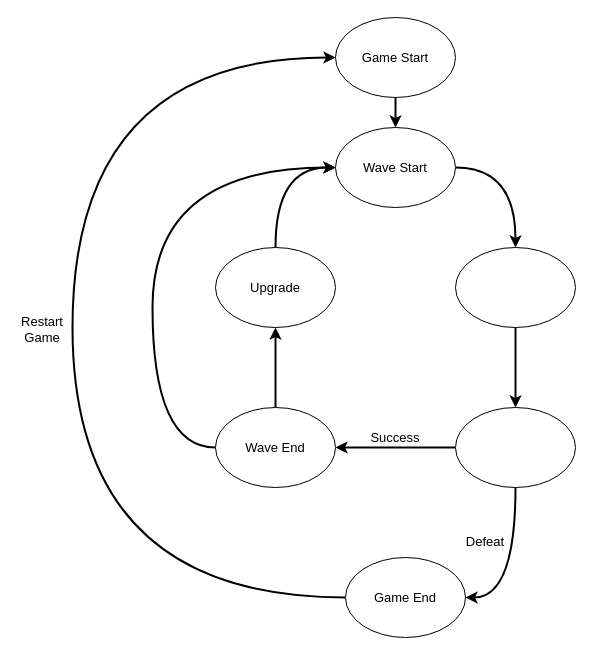
Image size: 593x655. Some labels were removed from this diagram. The shapes that lost their labels are listed below. From the top down, each one's box as (x1, y1, x2, y2) in pixels, then its label:
(454, 246, 576, 328): Protect Civililans
(454, 406, 576, 488): Defeat Attackers
